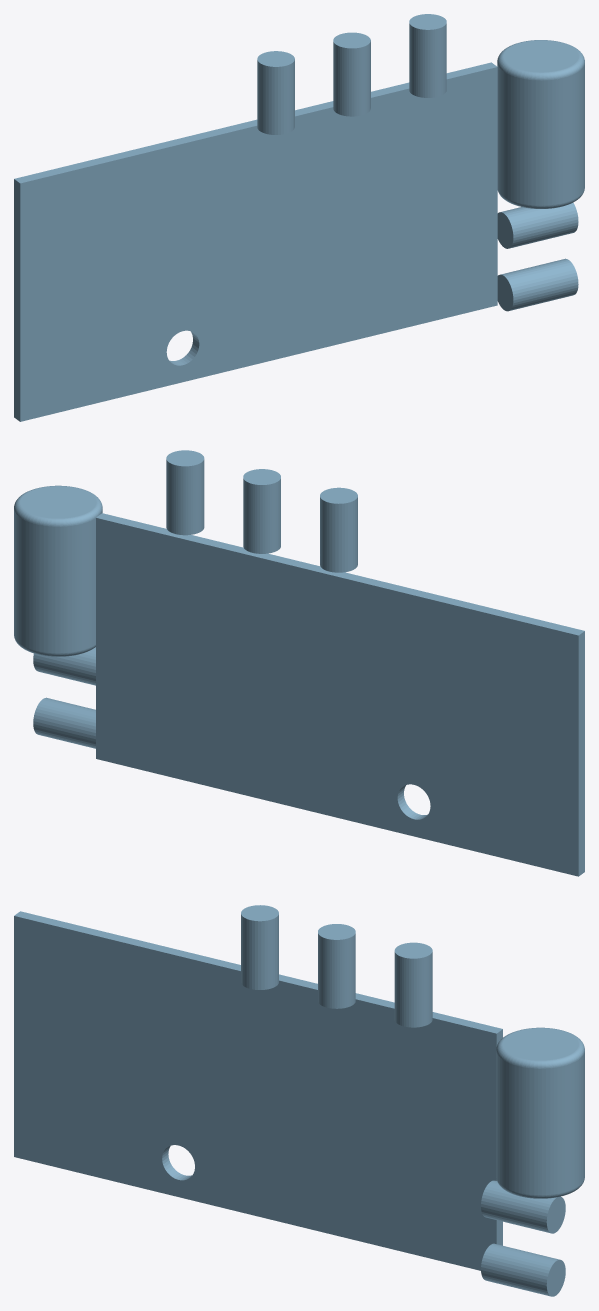
File: case-05_lib00010.glb
The picture shows the model from 3 angles, top to bottom: view 1: azimuth 30°, elevation 25°; view 2: azimuth 150°, elevation 25°; view 3: azimuth 330°, elevation 25°; orthographic projection.
Parts seen in each view (by area): view 1: lib00010; view 2: lib00010; view 3: lib00010.
Boxes of the visible parts, x1=… form: lib00010: x1=14, y1=14, x2=584, y2=421; lib00010: x1=14, y1=450, x2=584, y2=876; lib00010: x1=14, y1=905, x2=584, y2=1296.
Size of the model in its own units: 78 by 40.89 by 10.6.
